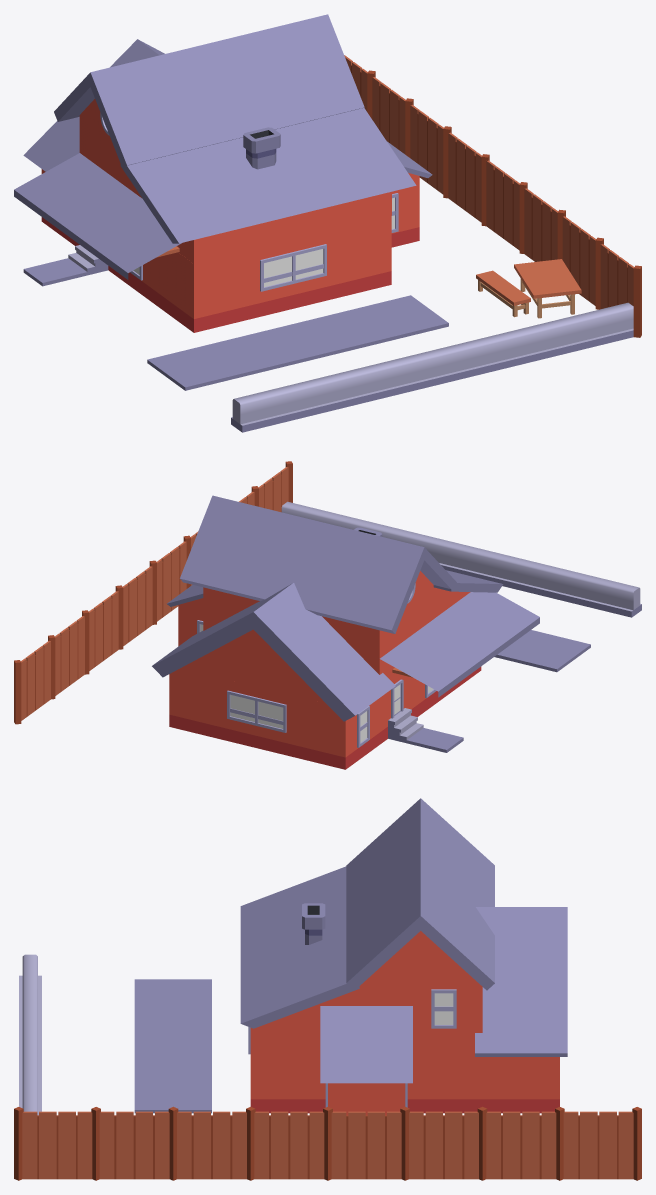
The model's file is House_006.fbx.
The picture shows the model from 3 angles, top to bottom: view 1: azimuth 30°, elevation 25°; view 2: azimuth 150°, elevation 25°; view 3: azimuth 270°, elevation 25°; orthographic projection. The views are drawn at different scales.
Parts seen in each view (by area): view 1: mergedBlocks; view 2: mergedBlocks; view 3: mergedBlocks.
Boxes of the visible parts, x1,y1,x2,y2 form: mergedBlocks: [14, 14, 641, 432]; mergedBlocks: [14, 461, 641, 769]; mergedBlocks: [14, 798, 641, 1180].
Bounding box in the file's own units: 303 × 148 × 406.
